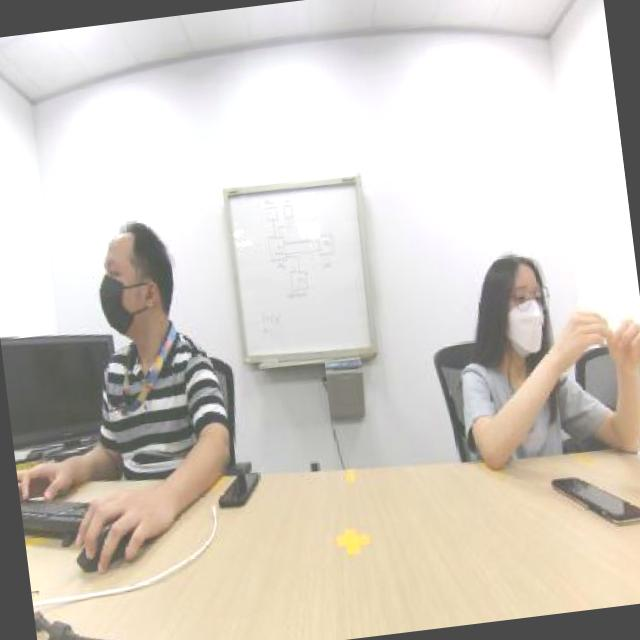Person: (54, 188, 247, 484), (420, 199, 625, 472)
